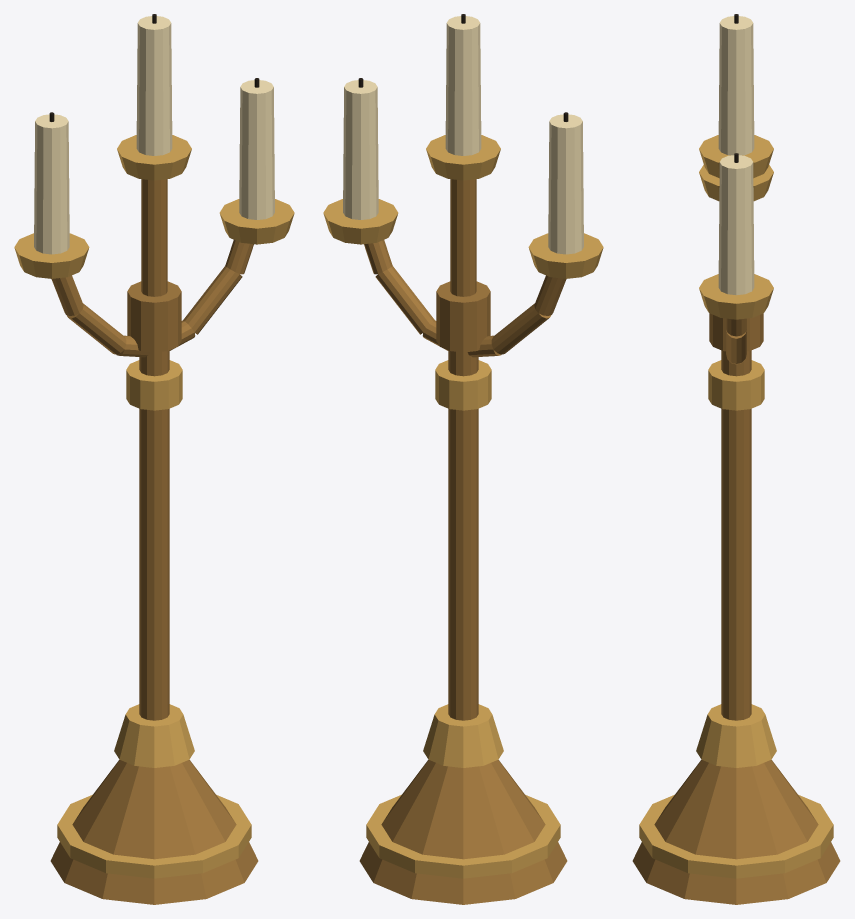
File: court-candelabrum.glb
The picture shows the model from 3 angles, left to right: view 1: azimuth 30°, elevation 25°; view 2: azimuth 150°, elevation 25°; view 3: azimuth 270°, elevation 25°; orthographic projection.
Parts seen in each view (by area): view 1: court-candelabrum; view 2: court-candelabrum; view 3: court-candelabrum.
Part boxes in pixels (x1=…): court-candelabrum: x1=14, y1=14, x2=294, y2=904; court-candelabrum: x1=323, y1=14, x2=603, y2=904; court-candelabrum: x1=632, y1=14, x2=840, y2=904.
Bounding box in the file's own units: 0.54 × 1.61 × 0.36.
